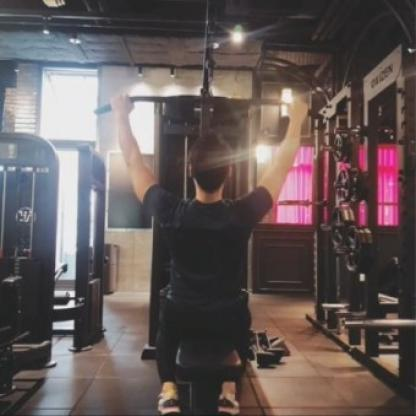Lat Pull Down: (81, 0, 335, 416)
